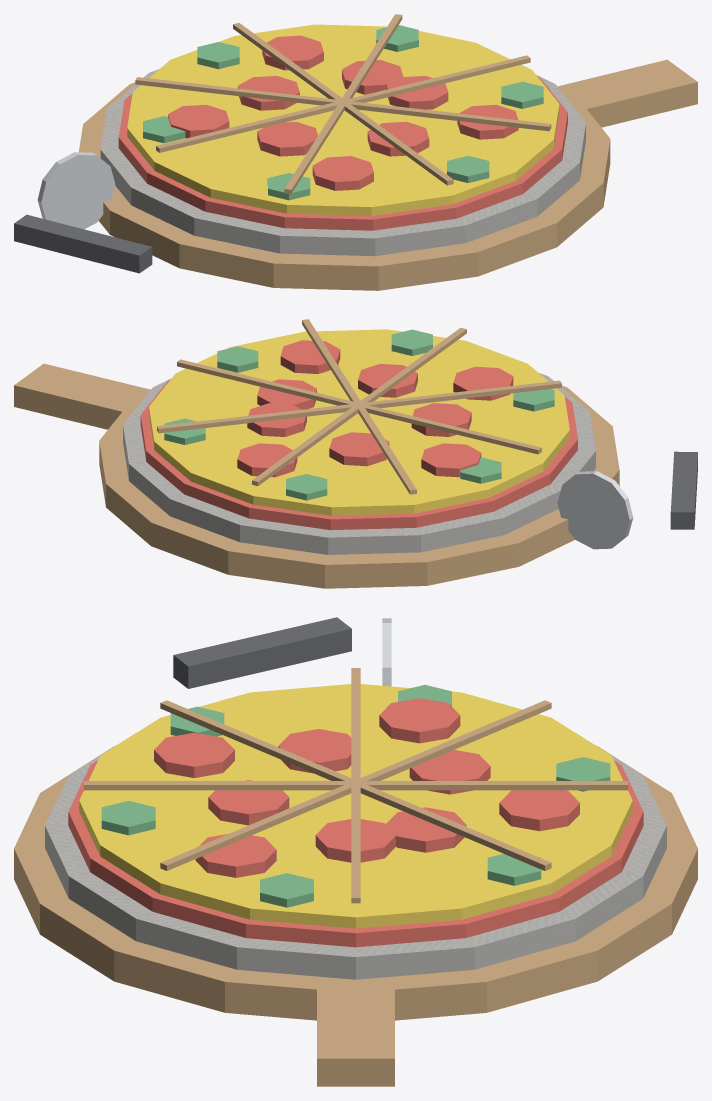
The model's file is street-food-market-and-food-trucks-pizza-on-a-board-f260c576.glb.
The picture shows the model from 3 angles, top to bottom: view 1: azimuth 30°, elevation 25°; view 2: azimuth 150°, elevation 25°; view 3: azimuth 270°, elevation 25°; orthographic projection. The views are drawn at different scales.
Visible parts, largest first — view 1: pizza-on-a-board-canary, pizza-on-a-board-timber, pizza-on-a-board-scarlet, pizza-on-a-board-concrete, pizza-on-a-board-leaf, pizza-on-a-board-steel, pizza-on-a-board-charcoal; view 2: pizza-on-a-board-canary, pizza-on-a-board-timber, pizza-on-a-board-scarlet, pizza-on-a-board-concrete, pizza-on-a-board-leaf, pizza-on-a-board-steel, pizza-on-a-board-charcoal; view 3: pizza-on-a-board-canary, pizza-on-a-board-timber, pizza-on-a-board-scarlet, pizza-on-a-board-concrete, pizza-on-a-board-leaf, pizza-on-a-board-charcoal.
Part boxes in pixels (x1,y1,x2,y2): pizza-on-a-board-canary: (127, 24, 559, 215); pizza-on-a-board-timber: (79, 14, 697, 290); pizza-on-a-board-scarlet: (118, 35, 567, 230); pizza-on-a-board-concrete: (100, 69, 585, 256); pizza-on-a-board-leaf: (143, 25, 543, 200); pizza-on-a-board-steel: (37, 152, 115, 229); pizza-on-a-board-charcoal: (14, 214, 152, 273); pizza-on-a-board-canary: (149, 329, 569, 515); pizza-on-a-board-timber: (14, 319, 619, 588); pizza-on-a-board-scarlet: (140, 340, 577, 530); pizza-on-a-board-concrete: (123, 372, 595, 554); pizza-on-a-board-leaf: (164, 329, 554, 500); pizza-on-a-board-steel: (557, 471, 633, 549); pizza-on-a-board-charcoal: (670, 451, 697, 529); pizza-on-a-board-canary: (79, 684, 632, 928); pizza-on-a-board-timber: (14, 668, 697, 1086); pizza-on-a-board-scarlet: (68, 698, 643, 947); pizza-on-a-board-concrete: (45, 733, 666, 979); pizza-on-a-board-leaf: (101, 685, 610, 907); pizza-on-a-board-charcoal: (173, 617, 351, 688).
Size of the model in its own units: 0.6375 by 0.07 by 0.44.
Materials: 7 (1 with a texture image).
